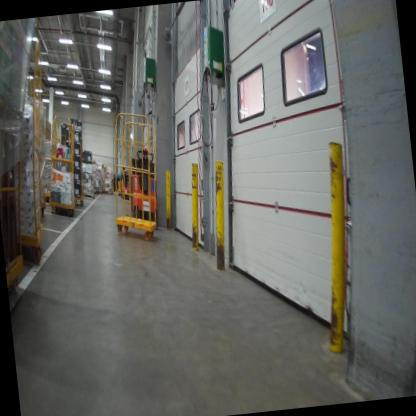pallet: (83, 189, 95, 200)
pallet_truck: (122, 141, 165, 225), (114, 161, 138, 203)
